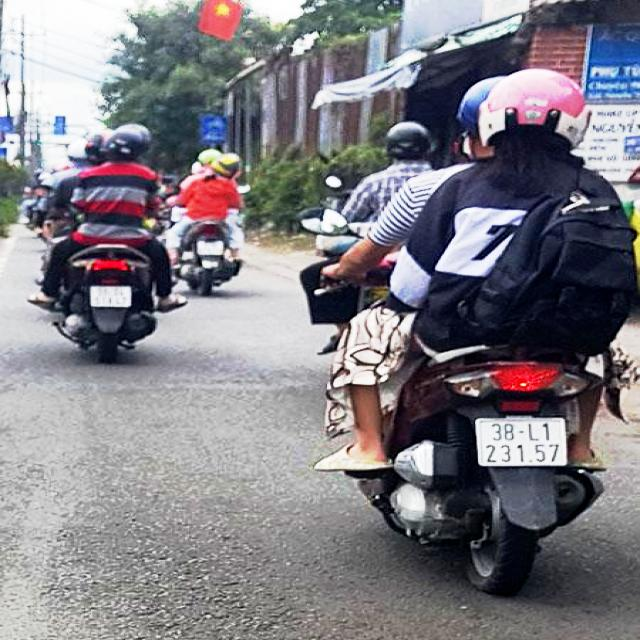license_plate: (476, 419, 569, 467)
